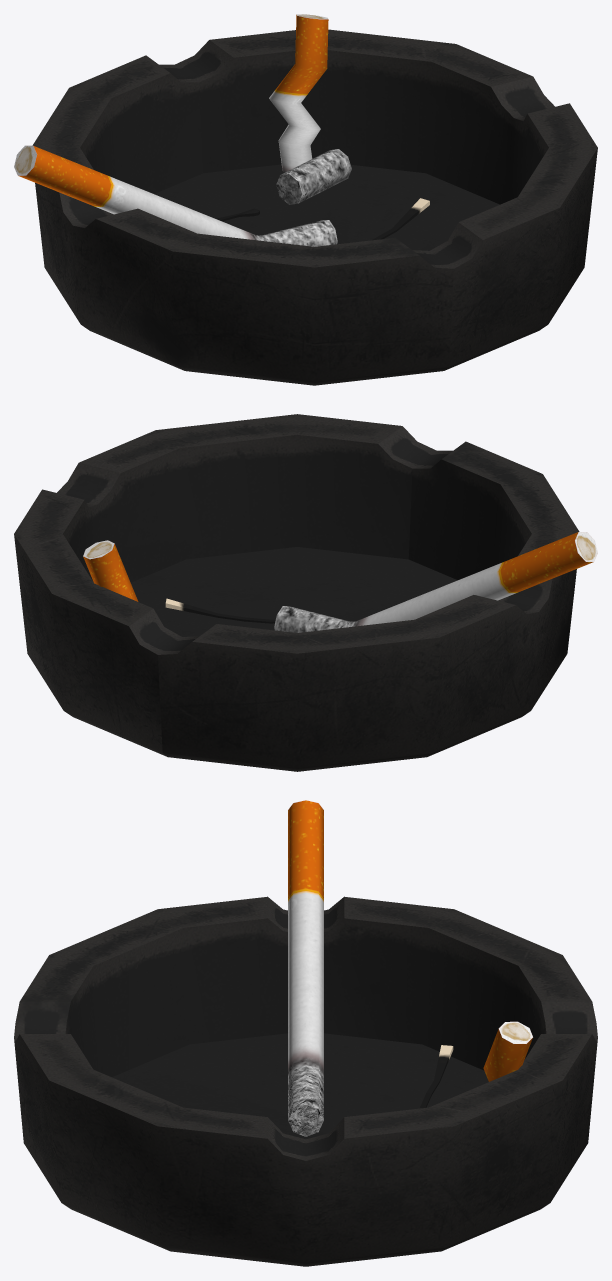
File: Ashtray.fbx
3 views of the same model, one above another, from view 1: azimuth 30°, elevation 25°; view 2: azimuth 150°, elevation 25°; view 3: azimuth 270°, elevation 25° (orthographic). The views are drawn at different scales.
Visible parts, largest first — view 1: Ashtray; view 2: Ashtray; view 3: Ashtray.
Boxes of the visible parts, x1,y1,x2,y2 form: Ashtray: [14, 14, 597, 385]; Ashtray: [14, 414, 597, 771]; Ashtray: [14, 800, 597, 1266].
Bounding box in the file's own units: 13.16 × 4.65 × 11.82.
